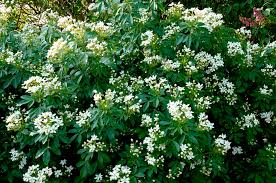flower: (40, 124, 45, 128)
